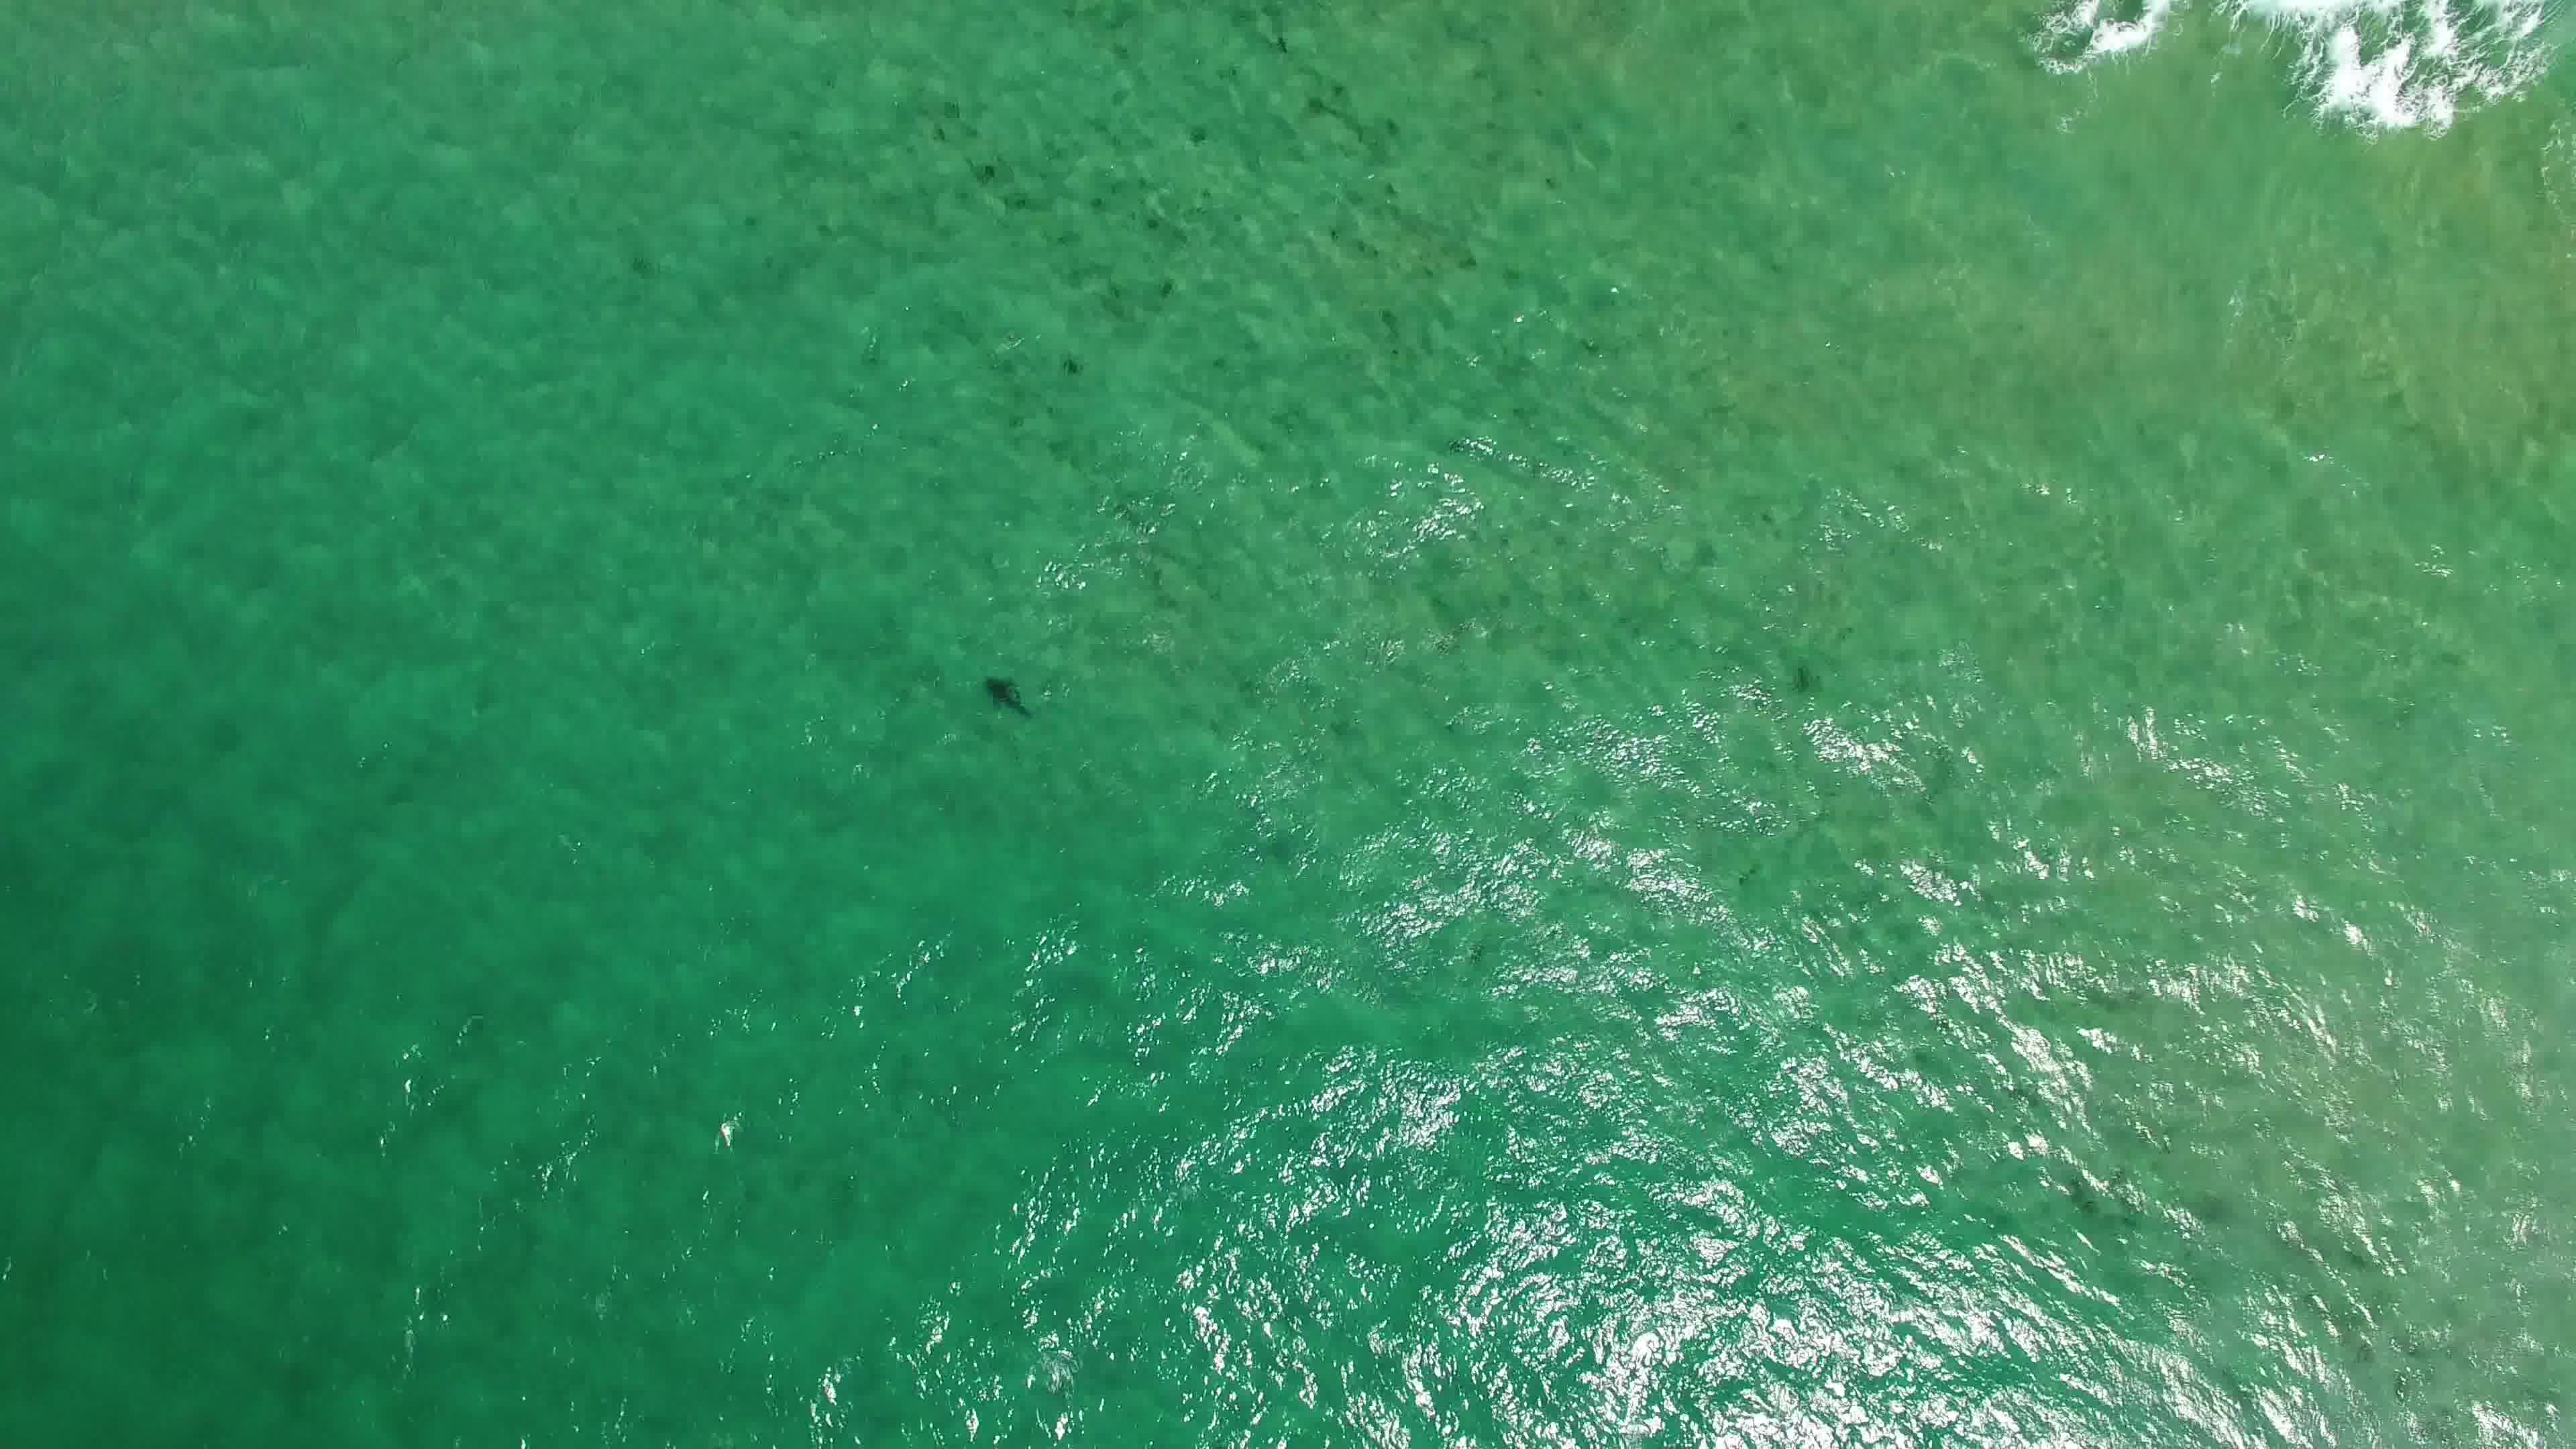shark: (982, 663, 1031, 720)
